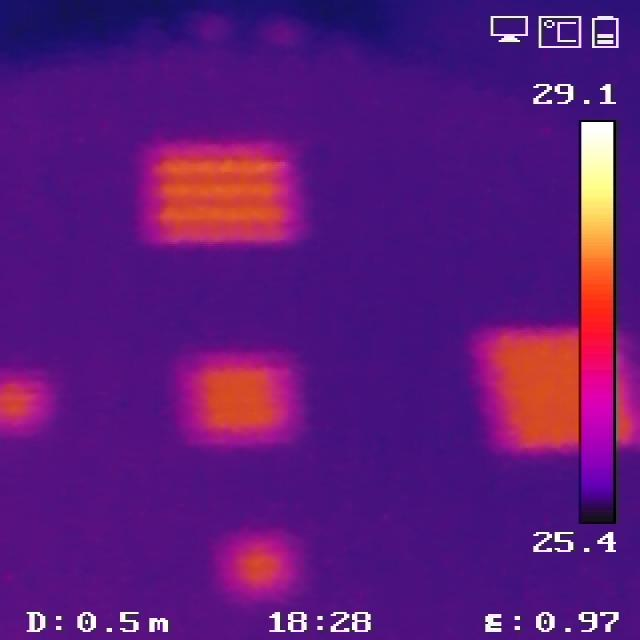Indistinguishable 4-bar target: (462, 327, 638, 452), (183, 355, 292, 438), (231, 534, 300, 595), (1, 375, 47, 433)
threshold 4-bar target: (145, 140, 307, 250)
